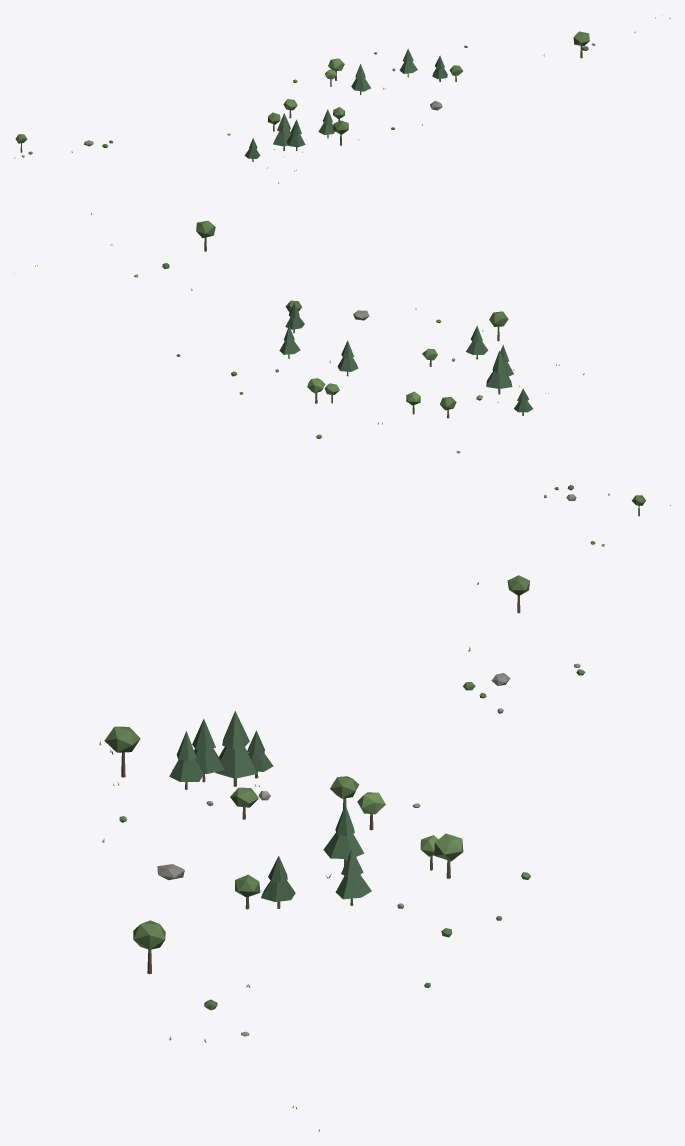
File: arch_land_scatter_c20_18_lod1.glb
The picture shows the model from 3 angles, top to bottom: view 1: azimuth 30°, elevation 25°; view 2: azimuth 150°, elevation 25°; view 3: azimuth 270°, elevation 25°; orthographic projection. The views are drawn at different scales.
Parts seen in each view (by area): view 1: arch_land_scatter_c20_18_lod1; view 2: arch_land_scatter_c20_18_lod1; view 3: arch_land_scatter_c20_18_lod1.
Boxes of the visible parts, box(x1,y1,x2,y2) form: arch_land_scatter_c20_18_lod1: box(14, 15, 670, 183); arch_land_scatter_c20_18_lod1: box(14, 213, 670, 546); arch_land_scatter_c20_18_lod1: box(99, 575, 585, 1131).
Size of the model in its own units: 237 by 34.2 by 81.87.
